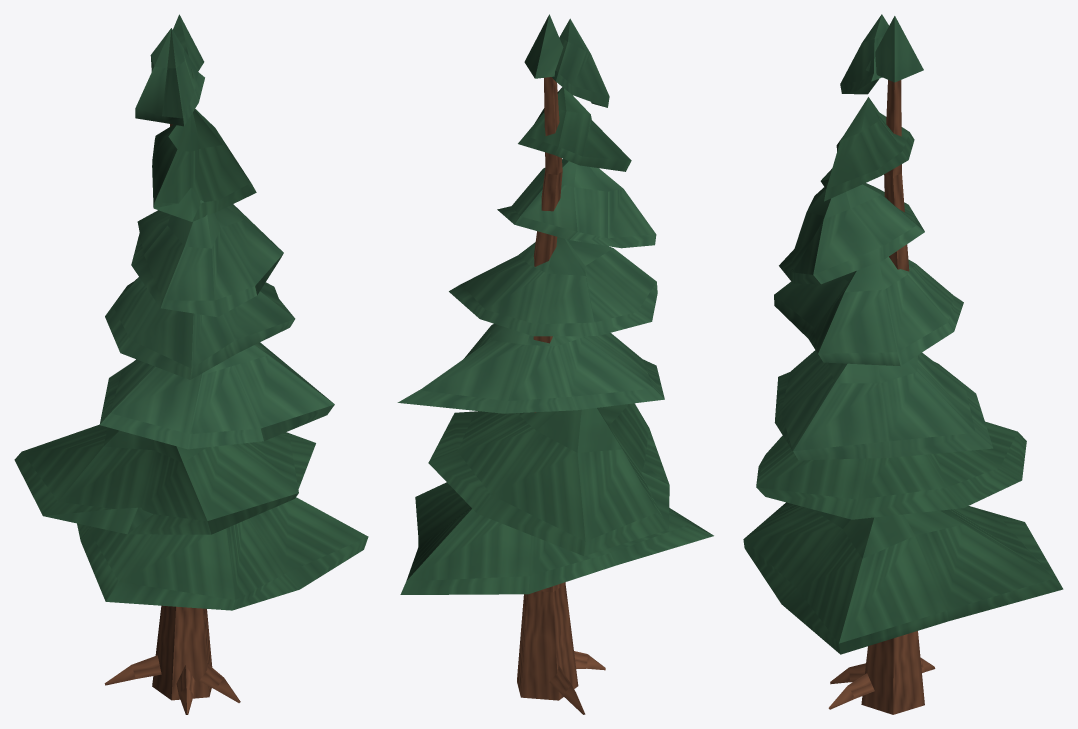
Rendered from SM_Tree_Pine_Large01_LOD1.fbx.
The picture shows the model from 3 angles, left to right: view 1: azimuth 30°, elevation 25°; view 2: azimuth 150°, elevation 25°; view 3: azimuth 270°, elevation 25°; orthographic projection.
Parts seen in each view (by area): view 1: SM_Tree_Pine_Large01_LOD1; view 2: SM_Tree_Pine_Large01_LOD1; view 3: SM_Tree_Pine_Large01_LOD1.
Part boxes in pixels (<box>): SM_Tree_Pine_Large01_LOD1: <box>14,14,368,714</box>; SM_Tree_Pine_Large01_LOD1: <box>397,14,713,714</box>; SM_Tree_Pine_Large01_LOD1: <box>743,14,1063,714</box>.
Size of the model in its own units: 14.55 by 32.42 by 13.77.
Materials: 1 (1 with a texture image).
